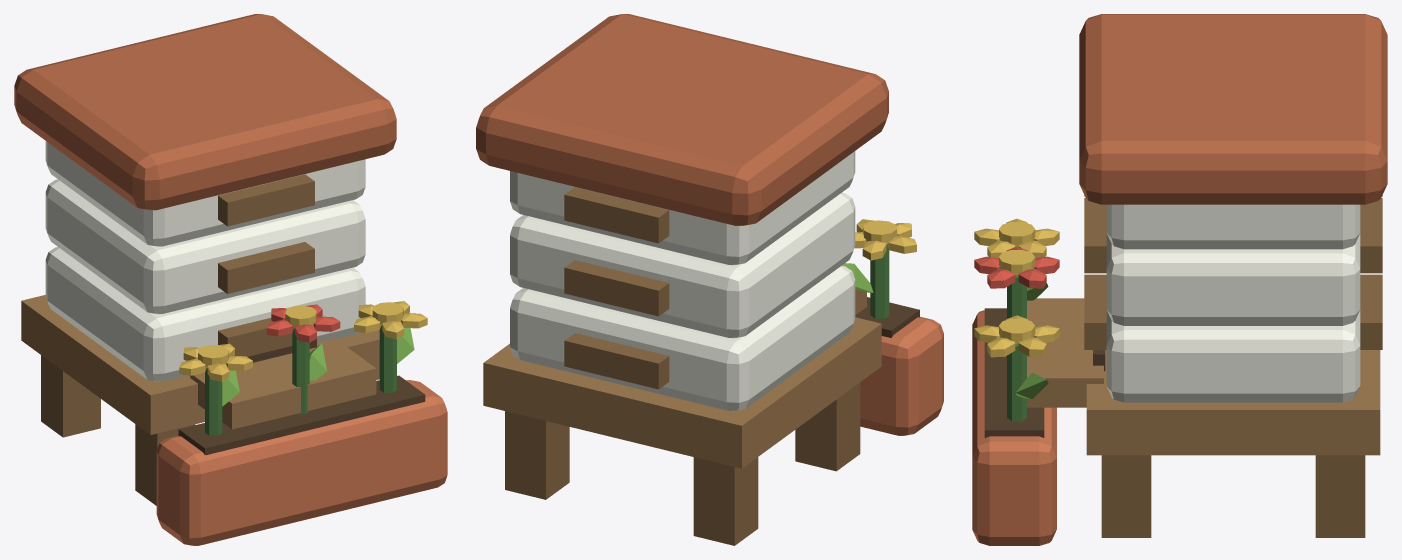
File: beehive.glb
The picture shows the model from 3 angles, left to right: view 1: azimuth 30°, elevation 25°; view 2: azimuth 150°, elevation 25°; view 3: azimuth 270°, elevation 25°; orthographic projection. The views are drawn at different scales.
Parts seen in each view (by area): view 1: Hive_copper_weather_lid, decor_Hive_flower_trough, Hive_stacked_ceramic_box.001, Hive_stacked_ceramic_box, Hive_stand, Hive_stacked_ceramic_box.002, Hive_landing_board, decor_Hive_trough_soil, Hive_timber_leg.001, Hive_timber_lifting_handle.004, Hive_timber_lifting_handle.002, decor_Hive_flower.002 (+7 smaller); view 2: Hive_copper_weather_lid, Hive_stand, Hive_stacked_ceramic_box.001, Hive_stacked_ceramic_box, Hive_stacked_ceramic_box.002, decor_Hive_flower_trough, Hive_timber_leg.001, Hive_timber_leg.003, Hive_timber_leg, Hive_timber_lifting_handle.001, Hive_timber_lifting_handle.003, Hive_timber_lifting_handle.005 (+3 smaller); view 3: Hive_copper_weather_lid, Hive_stacked_ceramic_box.001, Hive_stacked_ceramic_box, Hive_stand, Hive_stacked_ceramic_box.002, decor_Hive_flower_trough, Hive_landing_board, Hive_timber_leg.002, Hive_timber_leg.003, decor_Hive_trough_soil, decor_Hive_flower.001, decor_Hive_flower.002 (+8 smaller).
Part boxes in pixels (x1,y1,x2,y2): Hive_copper_weather_lid: [14, 14, 396, 210]; decor_Hive_flower_trough: [156, 380, 447, 545]; Hive_stacked_ceramic_box.001: [45, 179, 365, 314]; Hive_stacked_ceramic_box: [45, 247, 365, 381]; Hive_stand: [21, 295, 379, 434]; Hive_stacked_ceramic_box.002: [45, 141, 365, 246]; Hive_landing_board: [190, 338, 376, 429]; decor_Hive_trough_soil: [178, 375, 425, 455]; Hive_timber_leg.001: [41, 355, 100, 437]; Hive_timber_lifting_handle.004: [218, 174, 314, 226]; Hive_timber_lifting_handle.002: [218, 242, 314, 293]; decor_Hive_flower.002: [354, 301, 427, 339]; Hive_copper_weather_lid: [476, 14, 888, 225]; Hive_stand: [483, 317, 881, 468]; Hive_stacked_ceramic_box.001: [510, 192, 855, 338]; Hive_stacked_ceramic_box: [510, 265, 855, 410]; Hive_stacked_ceramic_box.002: [510, 151, 855, 265]; decor_Hive_flower_trough: [860, 316, 943, 435]; Hive_timber_leg.001: [693, 457, 758, 545]; Hive_timber_leg.003: [505, 411, 569, 499]; Hive_timber_leg: [795, 382, 860, 471]; Hive_timber_lifting_handle.001: [564, 333, 669, 389]; Hive_timber_lifting_handle.003: [564, 260, 669, 316]; Hive_timber_lifting_handle.005: [564, 187, 669, 243]; Hive_copper_weather_lid: [1079, 14, 1387, 204]; Hive_stacked_ceramic_box.001: [1106, 233, 1360, 325]; Hive_stacked_ceramic_box: [1106, 310, 1360, 402]; Hive_stand: [1086, 350, 1380, 455]; Hive_stacked_ceramic_box.002: [1106, 204, 1360, 249]; decor_Hive_flower_trough: [972, 310, 1056, 545]; Hive_landing_board: [1027, 298, 1103, 407]; Hive_timber_leg.002: [1101, 455, 1151, 537]; Hive_timber_leg.003: [1315, 455, 1365, 537]; decor_Hive_trough_soil: [984, 308, 1044, 437]; decor_Hive_flower.001: [974, 246, 1059, 288]; decor_Hive_flower.002: [974, 315, 1059, 357].
Bounding box in the file's own units: 0.7 × 0.89 × 0.835.
